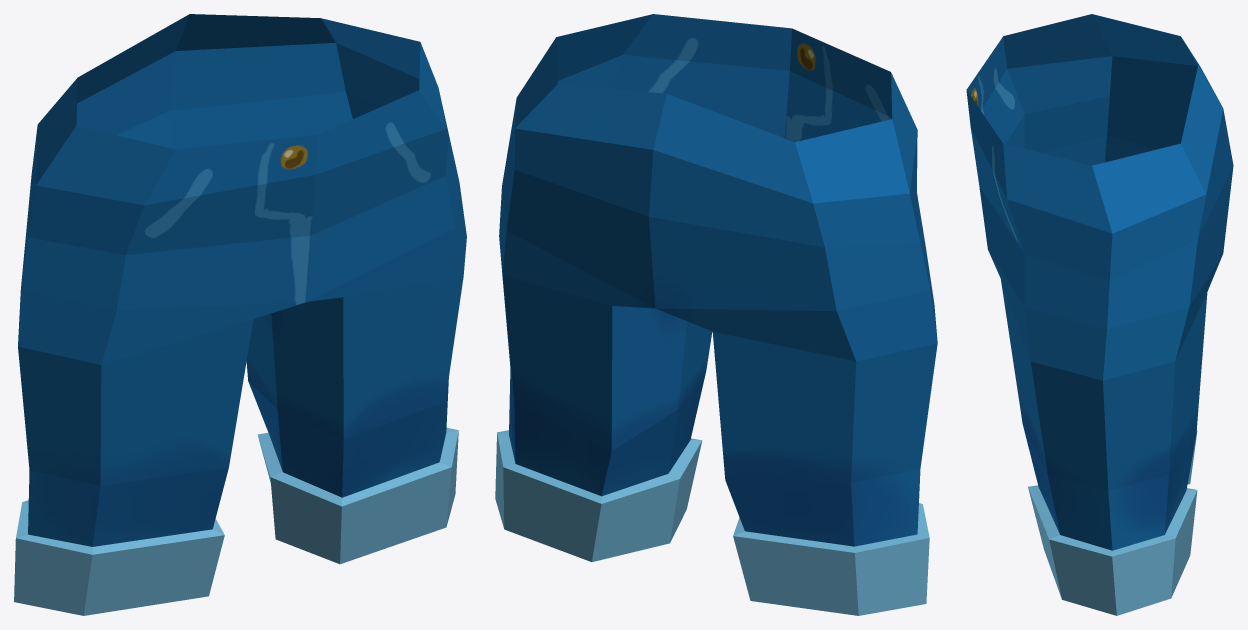
File: shorts.fbx
The picture shows the model from 3 angles, left to right: view 1: azimuth 30°, elevation 25°; view 2: azimuth 150°, elevation 25°; view 3: azimuth 270°, elevation 25°; orthographic projection. The views are drawn at different scales.
Parts seen in each view (by area): view 1: Cube.001; view 2: Cube.001; view 3: Cube.001.
Boxes of the visible parts, x1,y1,x2,y2 form: Cube.001: [14, 14, 466, 615]; Cube.001: [495, 14, 937, 615]; Cube.001: [966, 14, 1233, 615].
Size of the model in its own units: 93.82 by 101 by 53.47.
